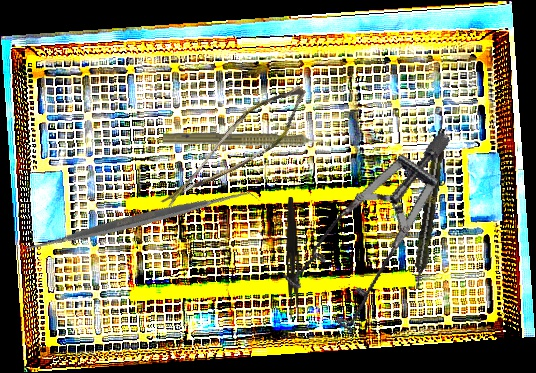Dressing Forceps: (281, 196, 304, 320)
Handpiece: (409, 127, 449, 293), (162, 129, 334, 154)
Micro Scissor: (160, 63, 315, 237)
Spatula Surgical: (15, 97, 262, 345)
Speculum: (255, 130, 502, 348)
